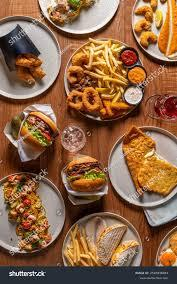Braised Crucian Carp: (63, 37, 147, 120), (107, 125, 175, 208), (0, 171, 65, 254), (0, 16, 62, 101), (61, 211, 141, 266)
